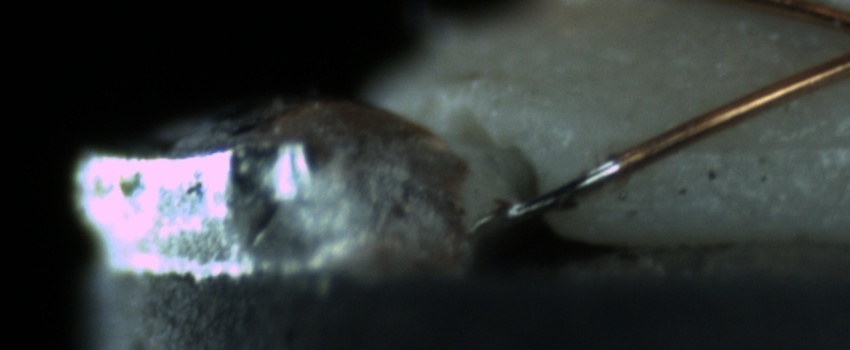DL: (689, 113, 850, 175)
TS: (498, 157, 625, 224)
TTCW: (496, 145, 649, 224)
